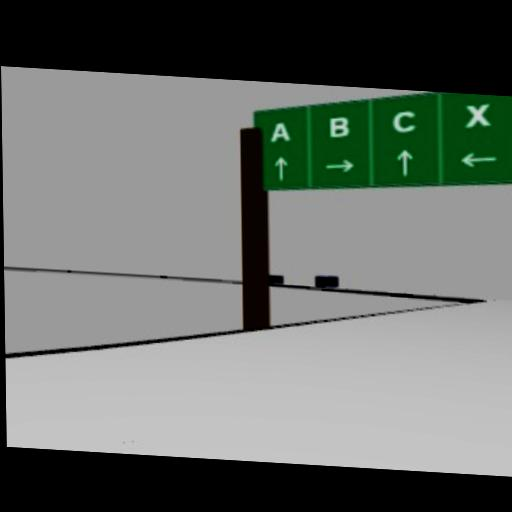A: (269, 119, 290, 142)
B: (328, 113, 349, 137)
C: (391, 107, 416, 133)
Left: (457, 148, 497, 168)
Right: (324, 156, 353, 172)
Straight: (395, 147, 413, 175), (273, 153, 287, 180)
X: (464, 100, 491, 129)
